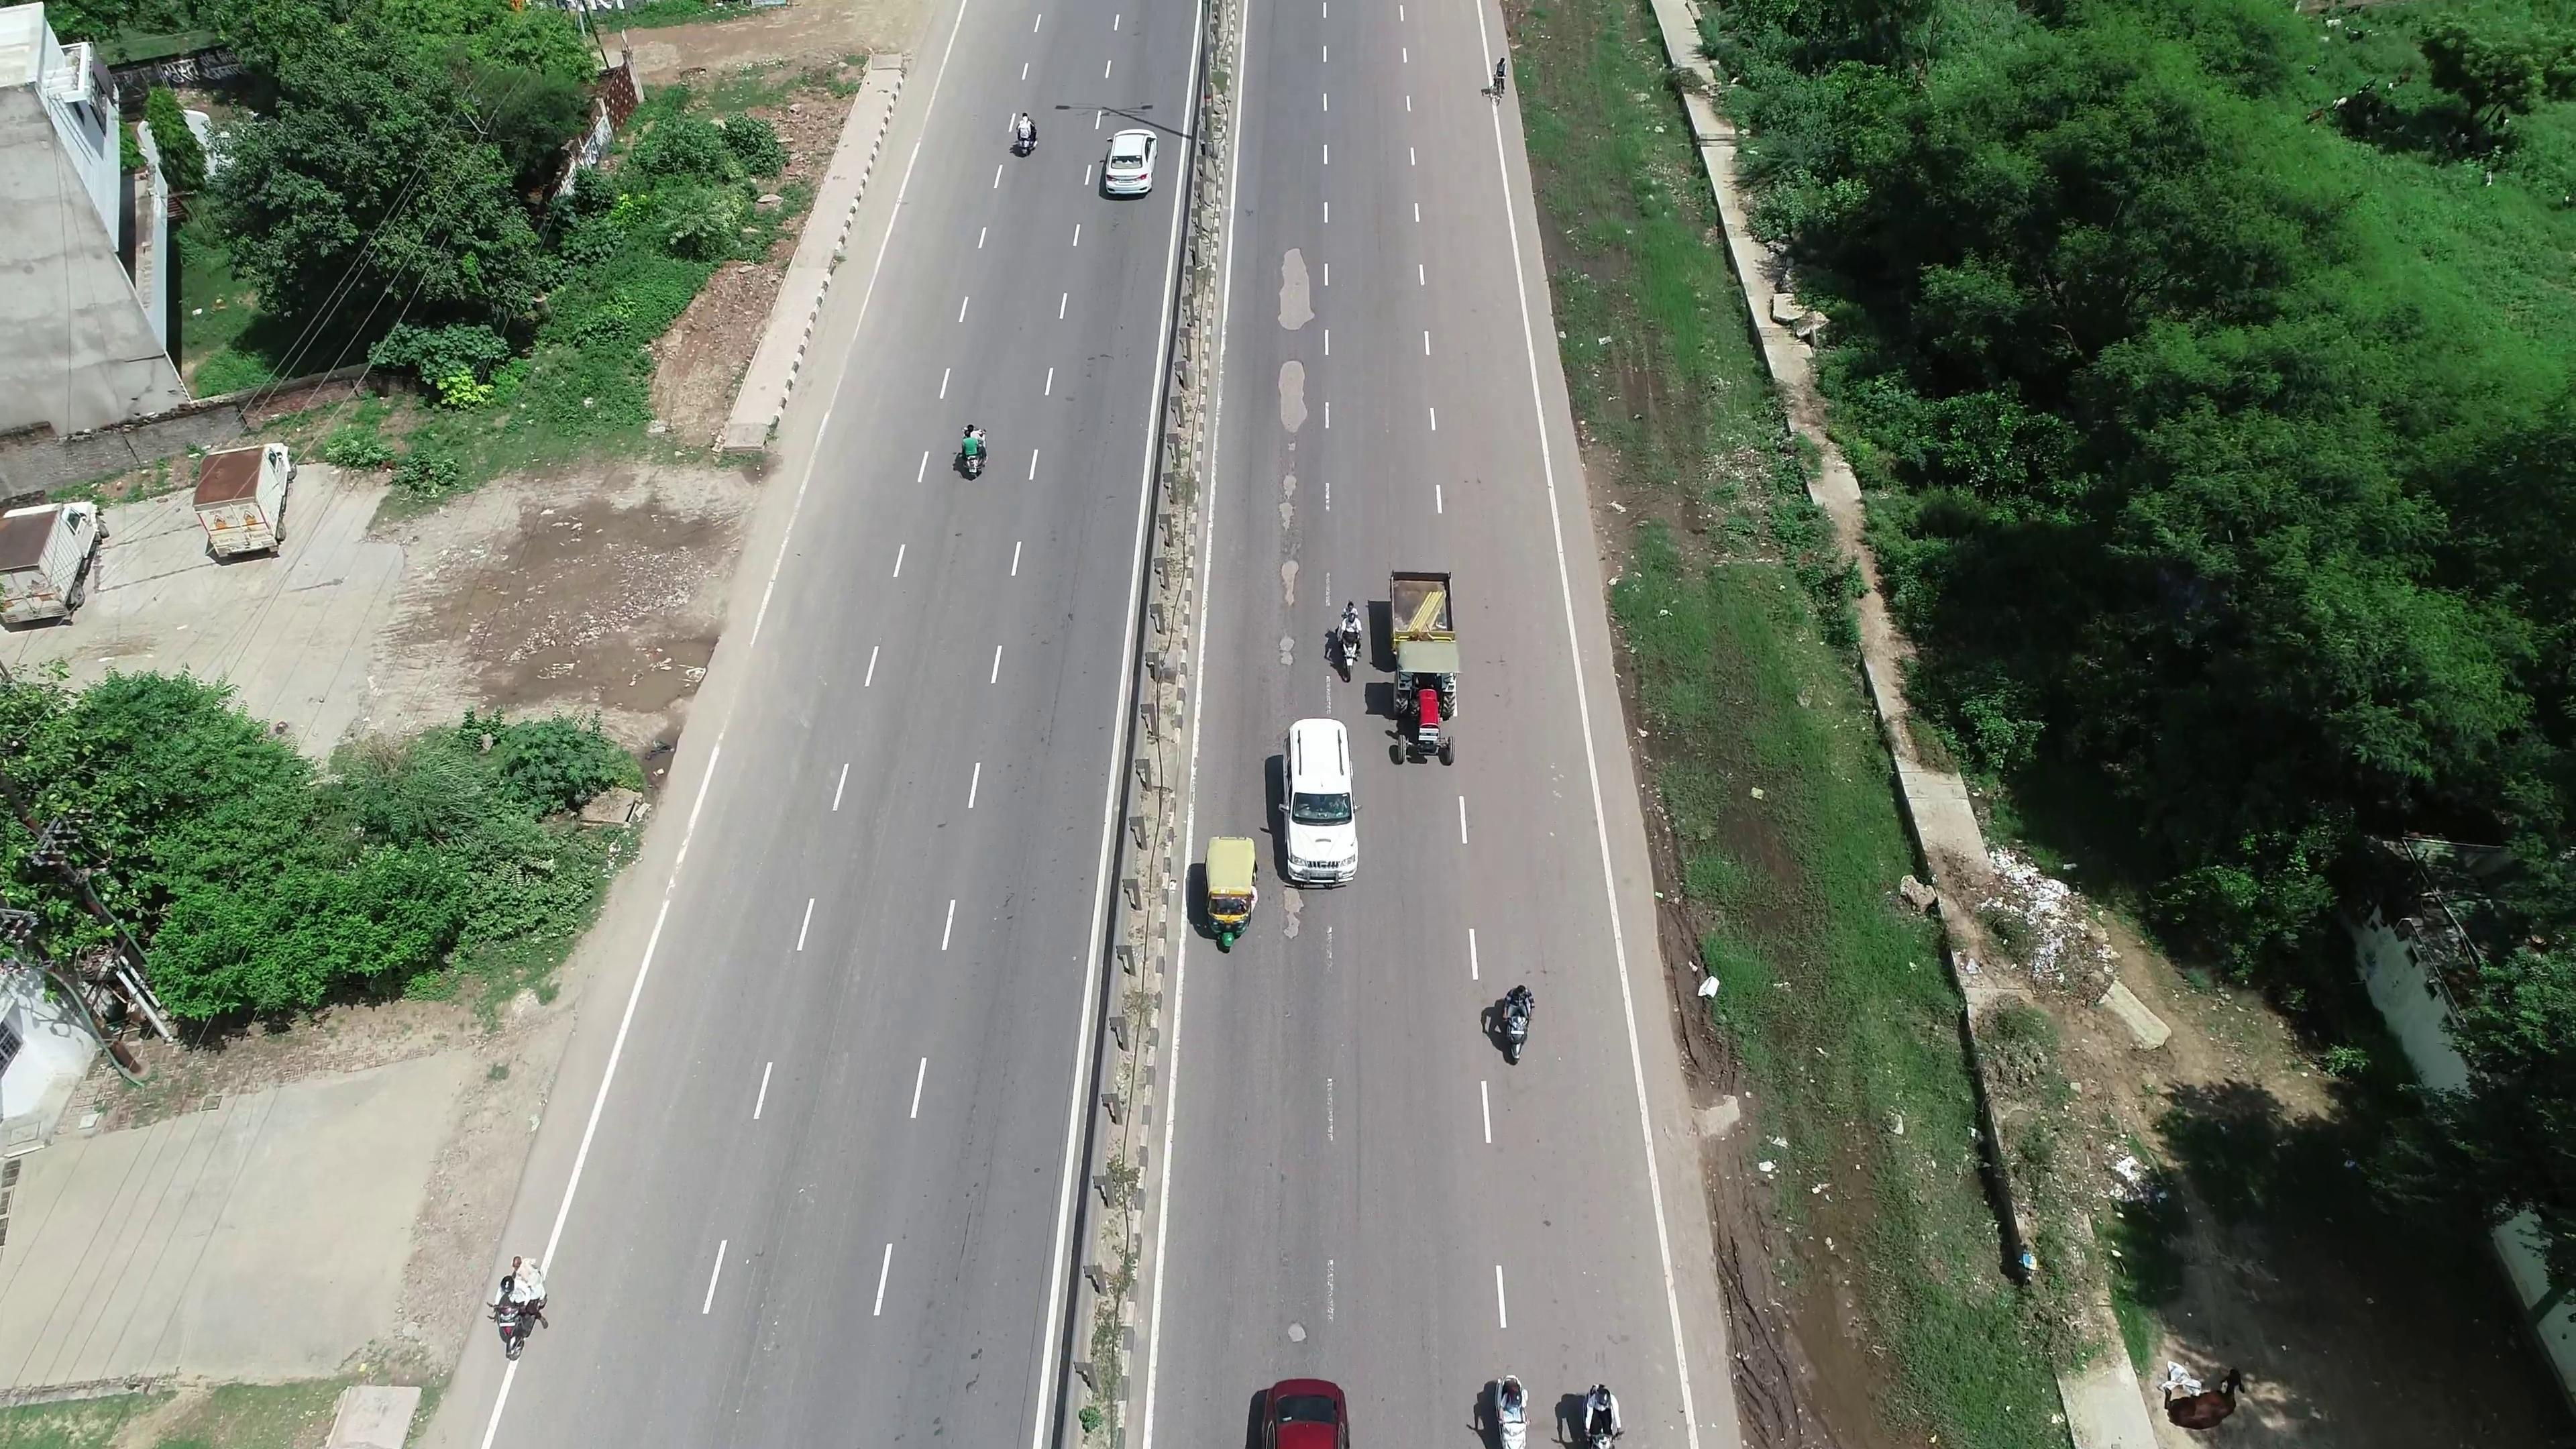Potholes: (1253, 435, 1327, 672), (1272, 242, 1327, 345), (1265, 347, 1313, 437)
